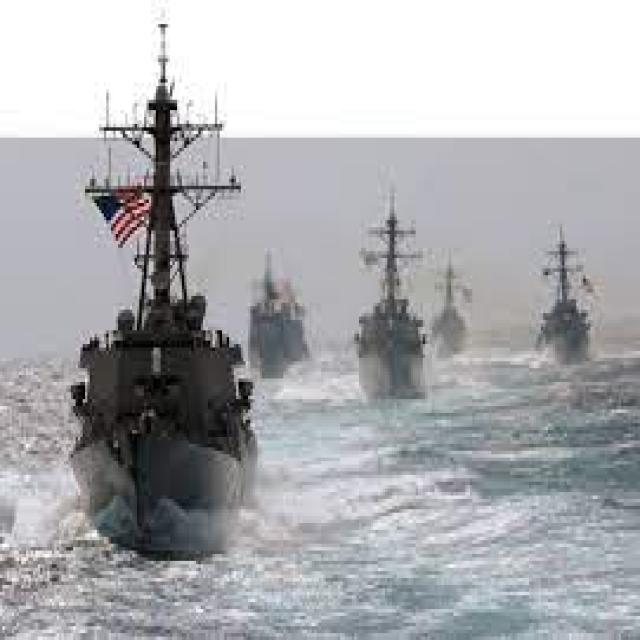navalvessels: (60, 15, 257, 550), (338, 162, 431, 404), (518, 202, 608, 360), (232, 256, 312, 378), (418, 235, 482, 374)
